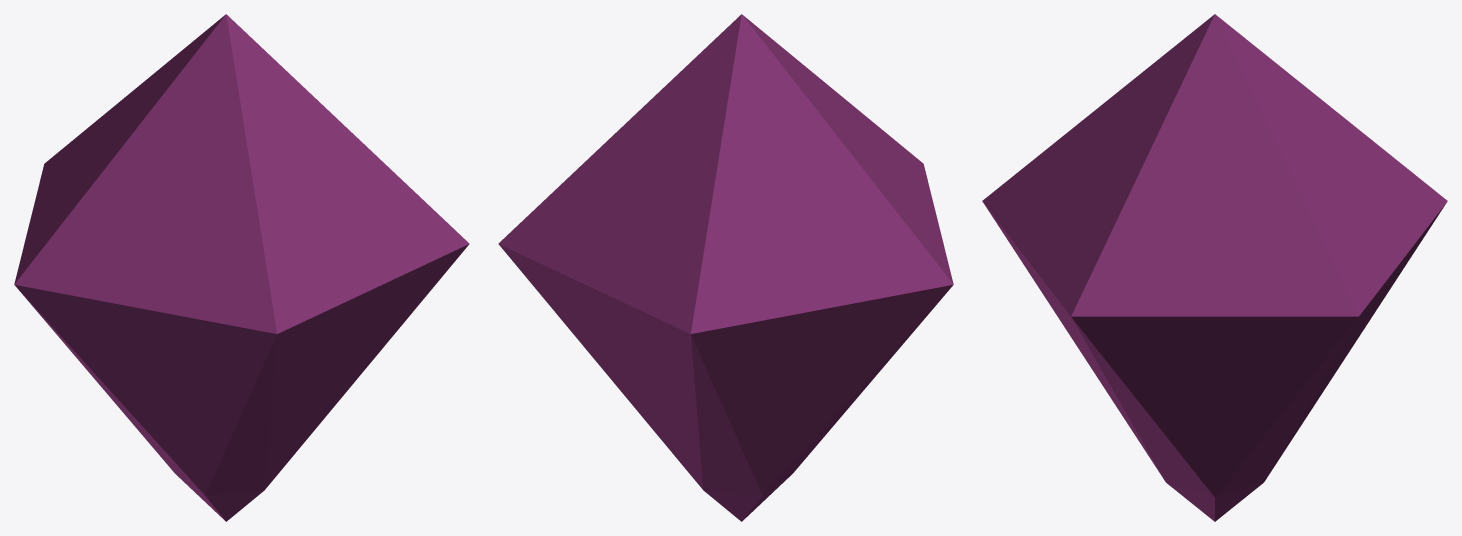
Rendered from Diamond.fbx.
The picture shows the model from 3 angles, left to right: view 1: azimuth 30°, elevation 25°; view 2: azimuth 150°, elevation 25°; view 3: azimuth 270°, elevation 25°; orthographic projection.
Visible parts, largest first — view 1: Diamond; view 2: Diamond; view 3: Diamond.
Boxes of the visible parts, box(x1,y1,x2,y2) form: Diamond: box(14, 14, 469, 521); Diamond: box(498, 14, 953, 521); Diamond: box(982, 14, 1447, 521).
Size of the model in its own units: 69.95 by 88.52 by 73.55.
